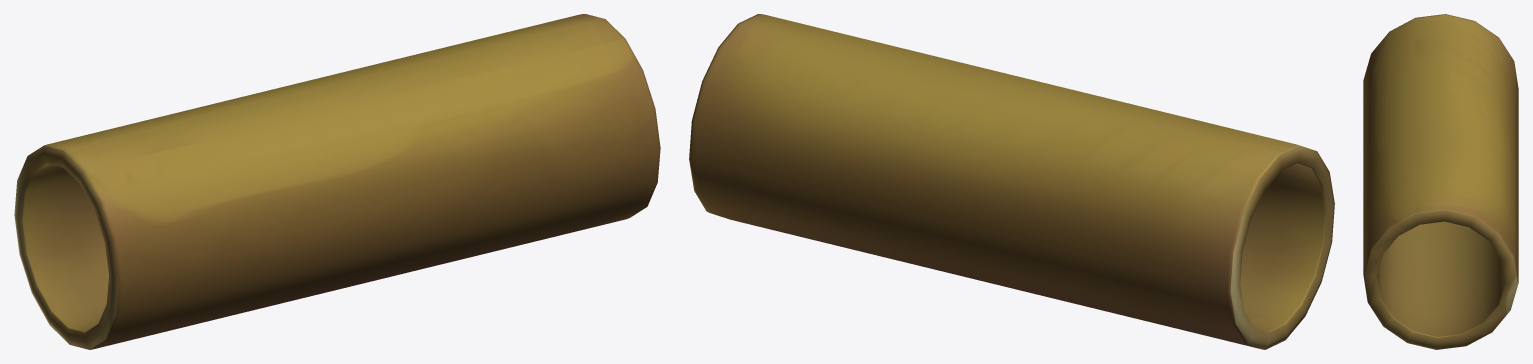
File: HollowLog.fbx
3 renders of one model, left to right at view 1: azimuth 30°, elevation 25°; view 2: azimuth 150°, elevation 25°; view 3: azimuth 270°, elevation 25°, orthographic. The views are drawn at different scales.
Parts seen in each view (by area): view 1: HollowLog; view 2: HollowLog; view 3: HollowLog.
Part boxes in pixels (bbox=[...]): HollowLog: bbox=[14, 14, 660, 349]; HollowLog: bbox=[689, 14, 1334, 349]; HollowLog: bbox=[1363, 14, 1518, 349].
Size of the model in its own units: 598 by 200 by 200.
